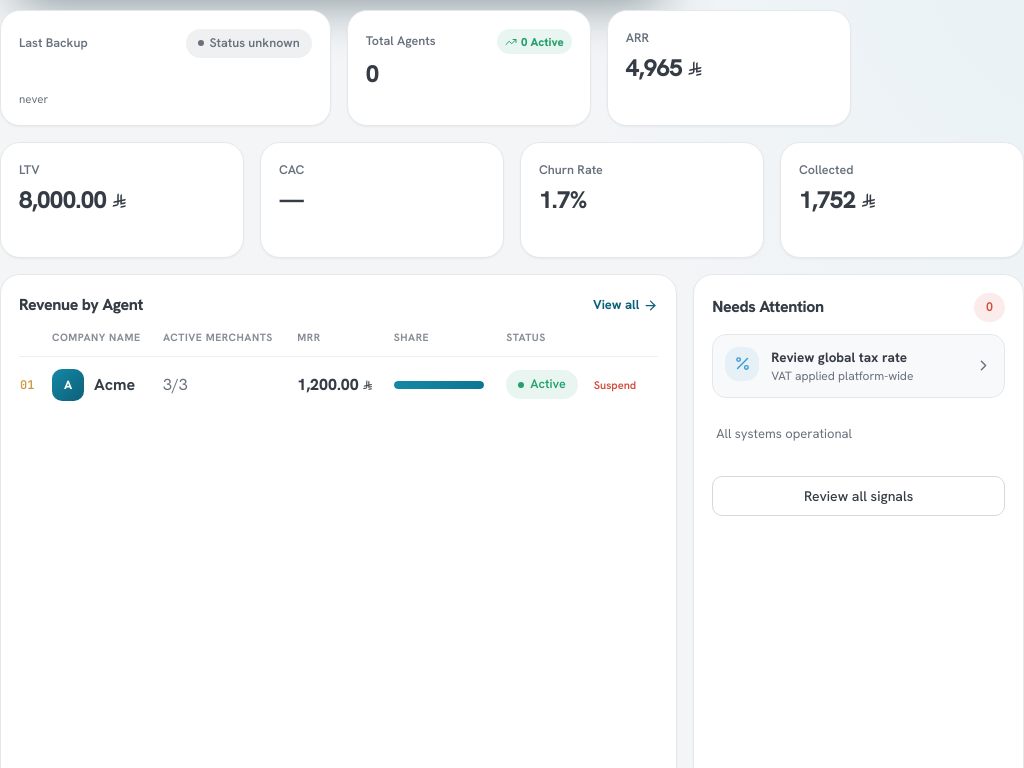
MasterDashboard suspend cascade preview (#236 A4) › calls the toggle endpoint only after the master confirms
This screenshot has width=1024, height=768.
Later steps or results of the test are not shown.
(page scrolled)
Click the button with test id "suspend-agent-7" at (615, 385), box [586,372,644,397]
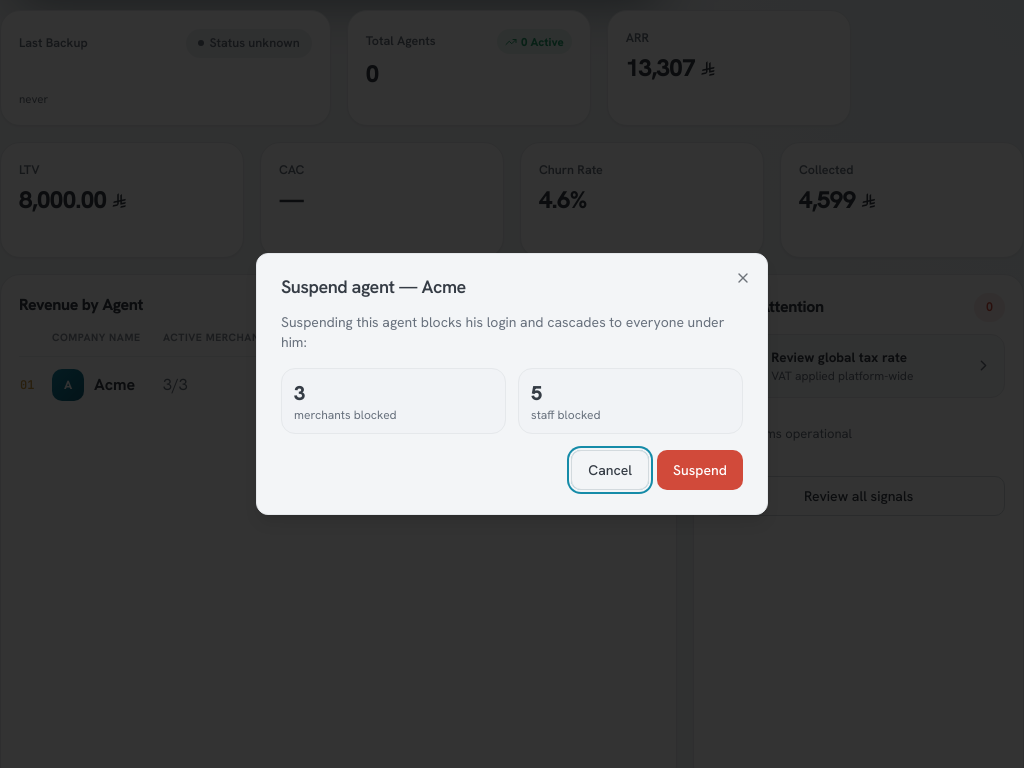
Expected: the text "3" is shown, [294,380,305,406]
